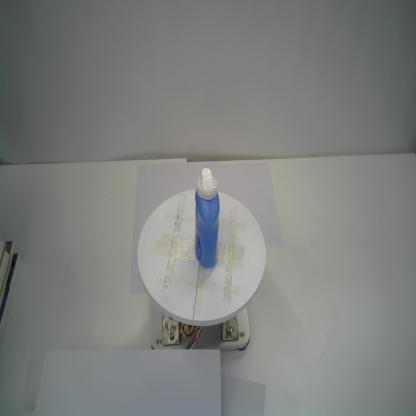Personal Hygiene: (194, 166, 221, 270)
